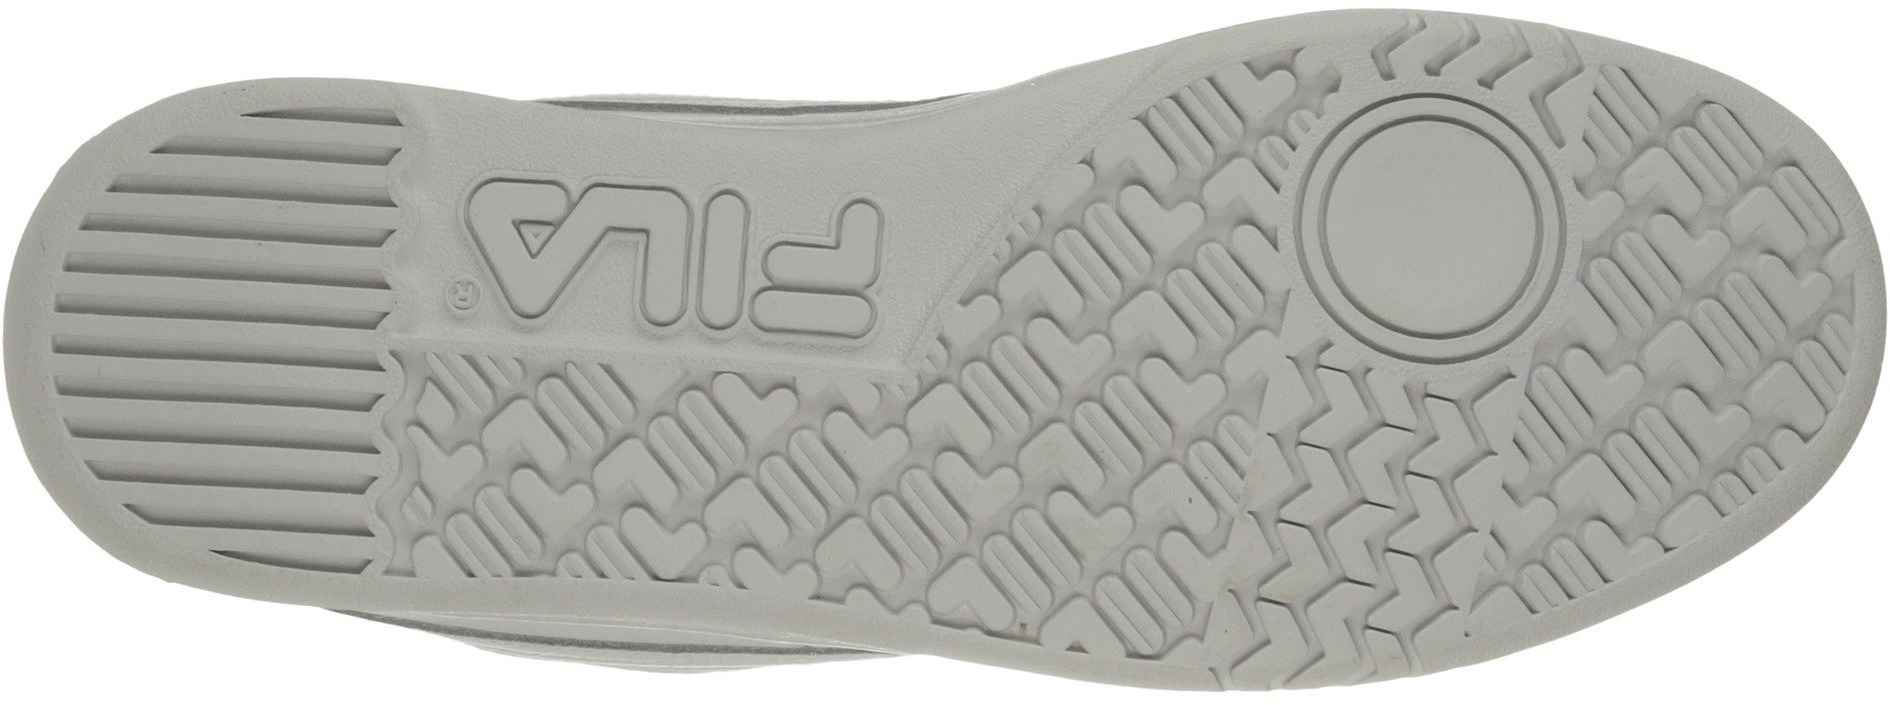circle: (1304, 107, 1557, 345)
quad: (101, 163, 407, 433)
